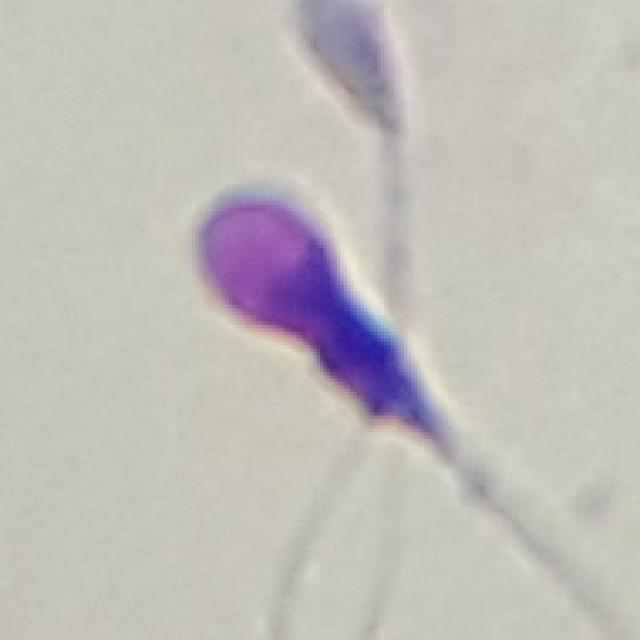abnormal sperm: (196, 192, 504, 516)
